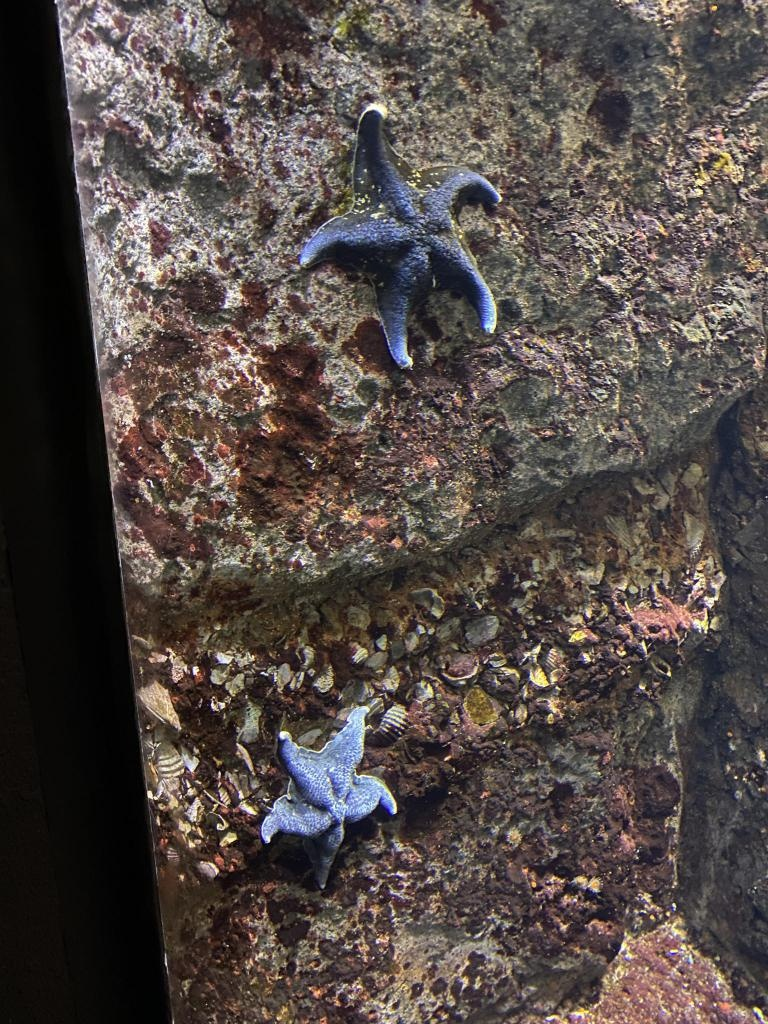starfish: (300, 104, 503, 370), (261, 706, 399, 890)
